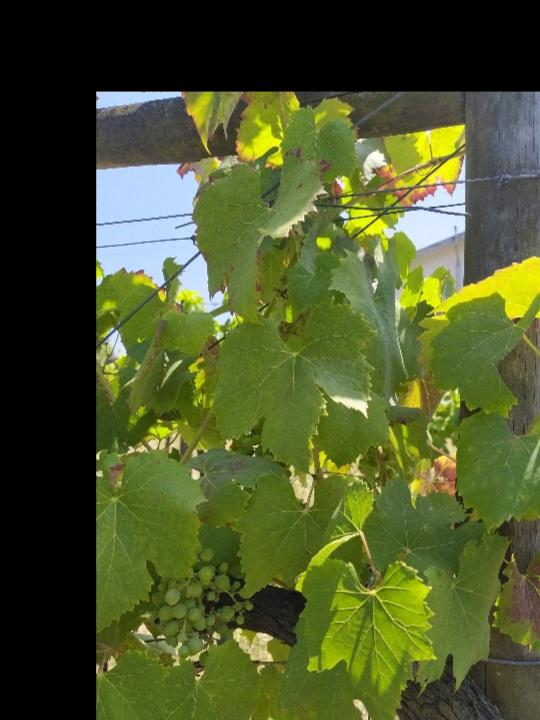grape: (148, 545, 254, 670), (534, 466, 540, 663)
